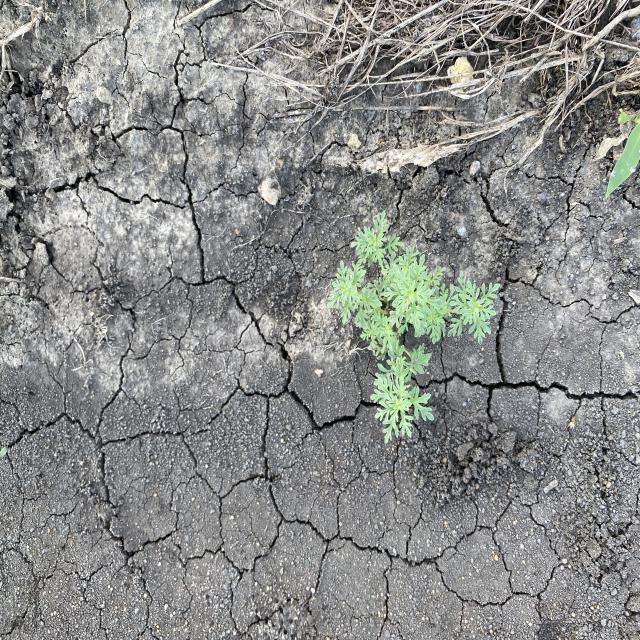Ragweed: (327, 211, 505, 446)
